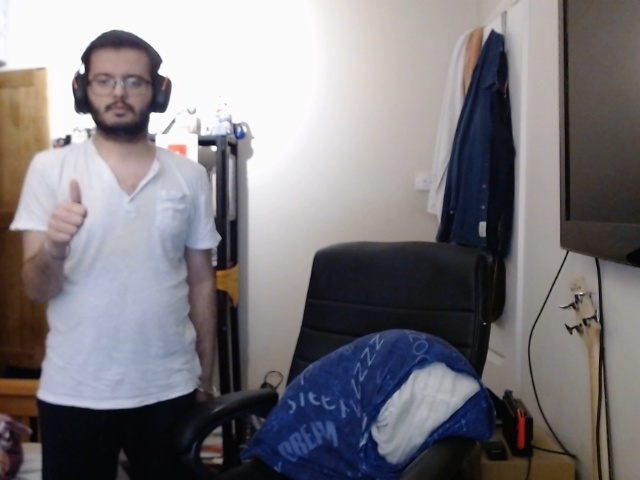Thumbs up: (39, 170, 98, 253)
